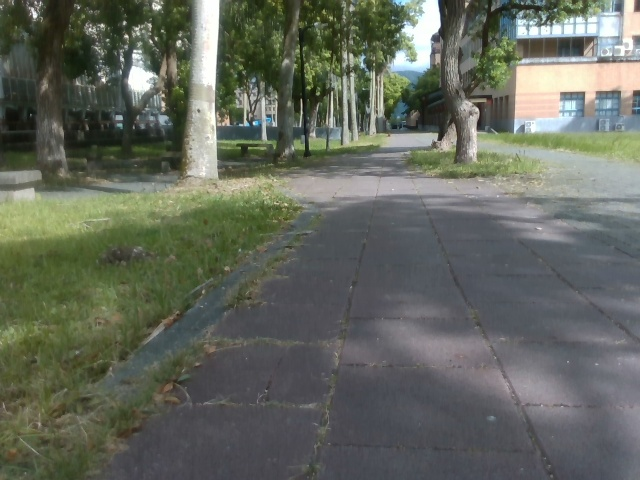grass: (0, 132, 389, 479), (218, 0, 610, 165), (0, 0, 191, 186), (403, 130, 639, 190)
road: (87, 134, 639, 479)
sidewalk: (0, 170, 177, 195)
